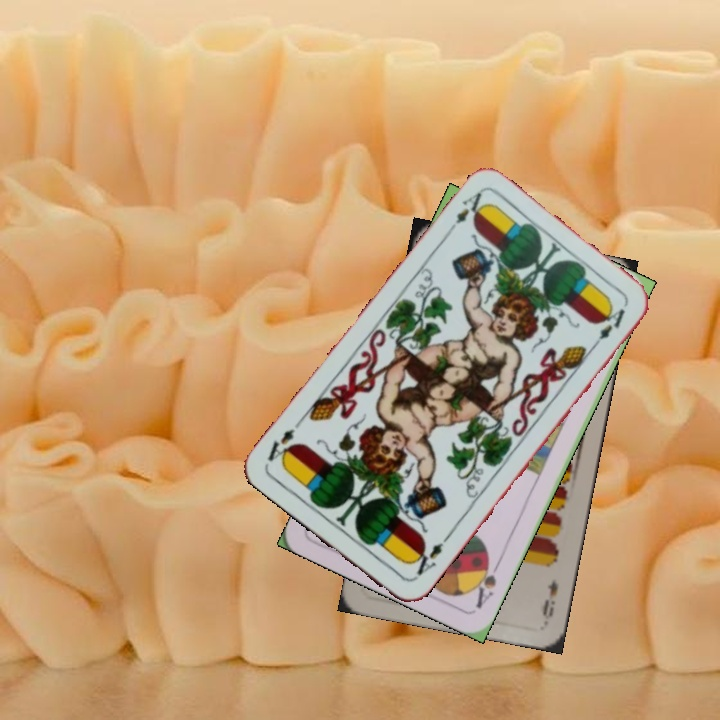E9: (538, 575, 561, 625)
EA: (443, 188, 490, 238), (406, 532, 452, 582)
SA: (469, 552, 504, 611)
